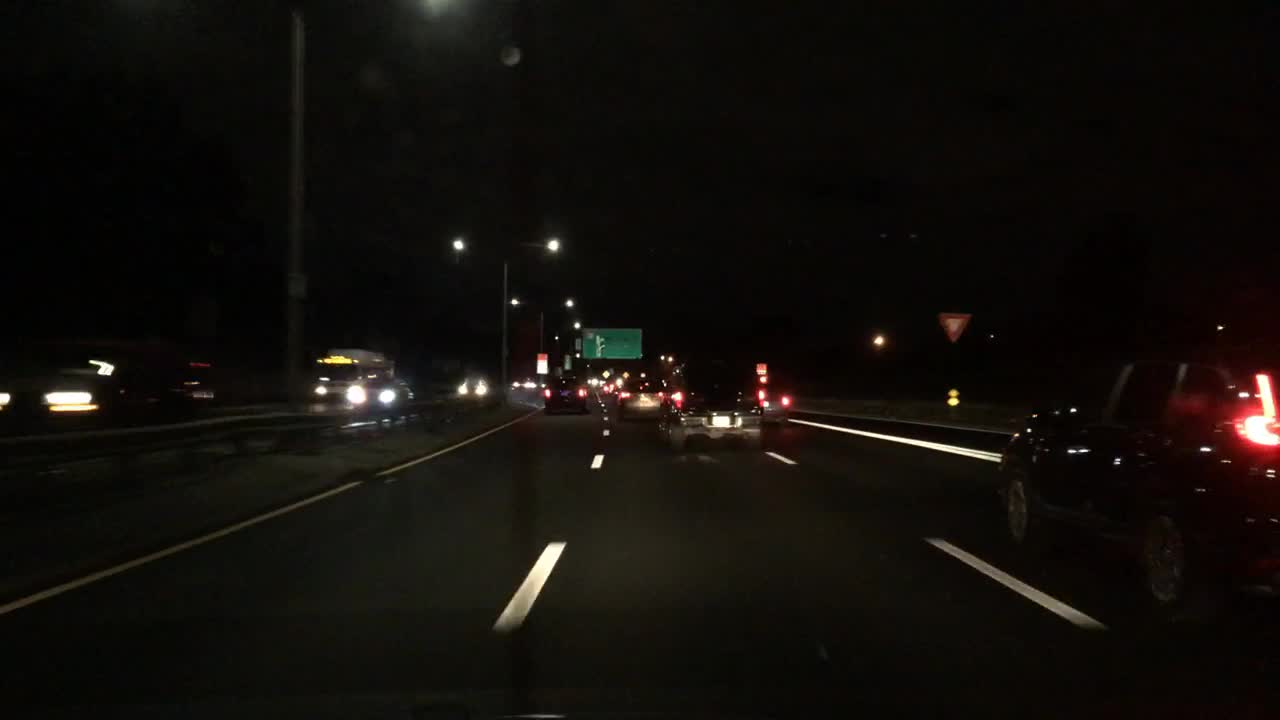bus: (308, 346, 396, 400)
car: (995, 322, 1275, 622), (0, 333, 221, 432), (654, 358, 768, 454), (345, 373, 415, 411), (613, 373, 665, 419), (541, 373, 590, 419), (458, 368, 491, 401), (758, 389, 790, 423), (511, 374, 536, 391), (597, 379, 619, 398)
traffic sign: (581, 326, 643, 359), (936, 309, 972, 345), (535, 351, 548, 374), (947, 388, 960, 407), (563, 353, 573, 371), (601, 368, 610, 380)
